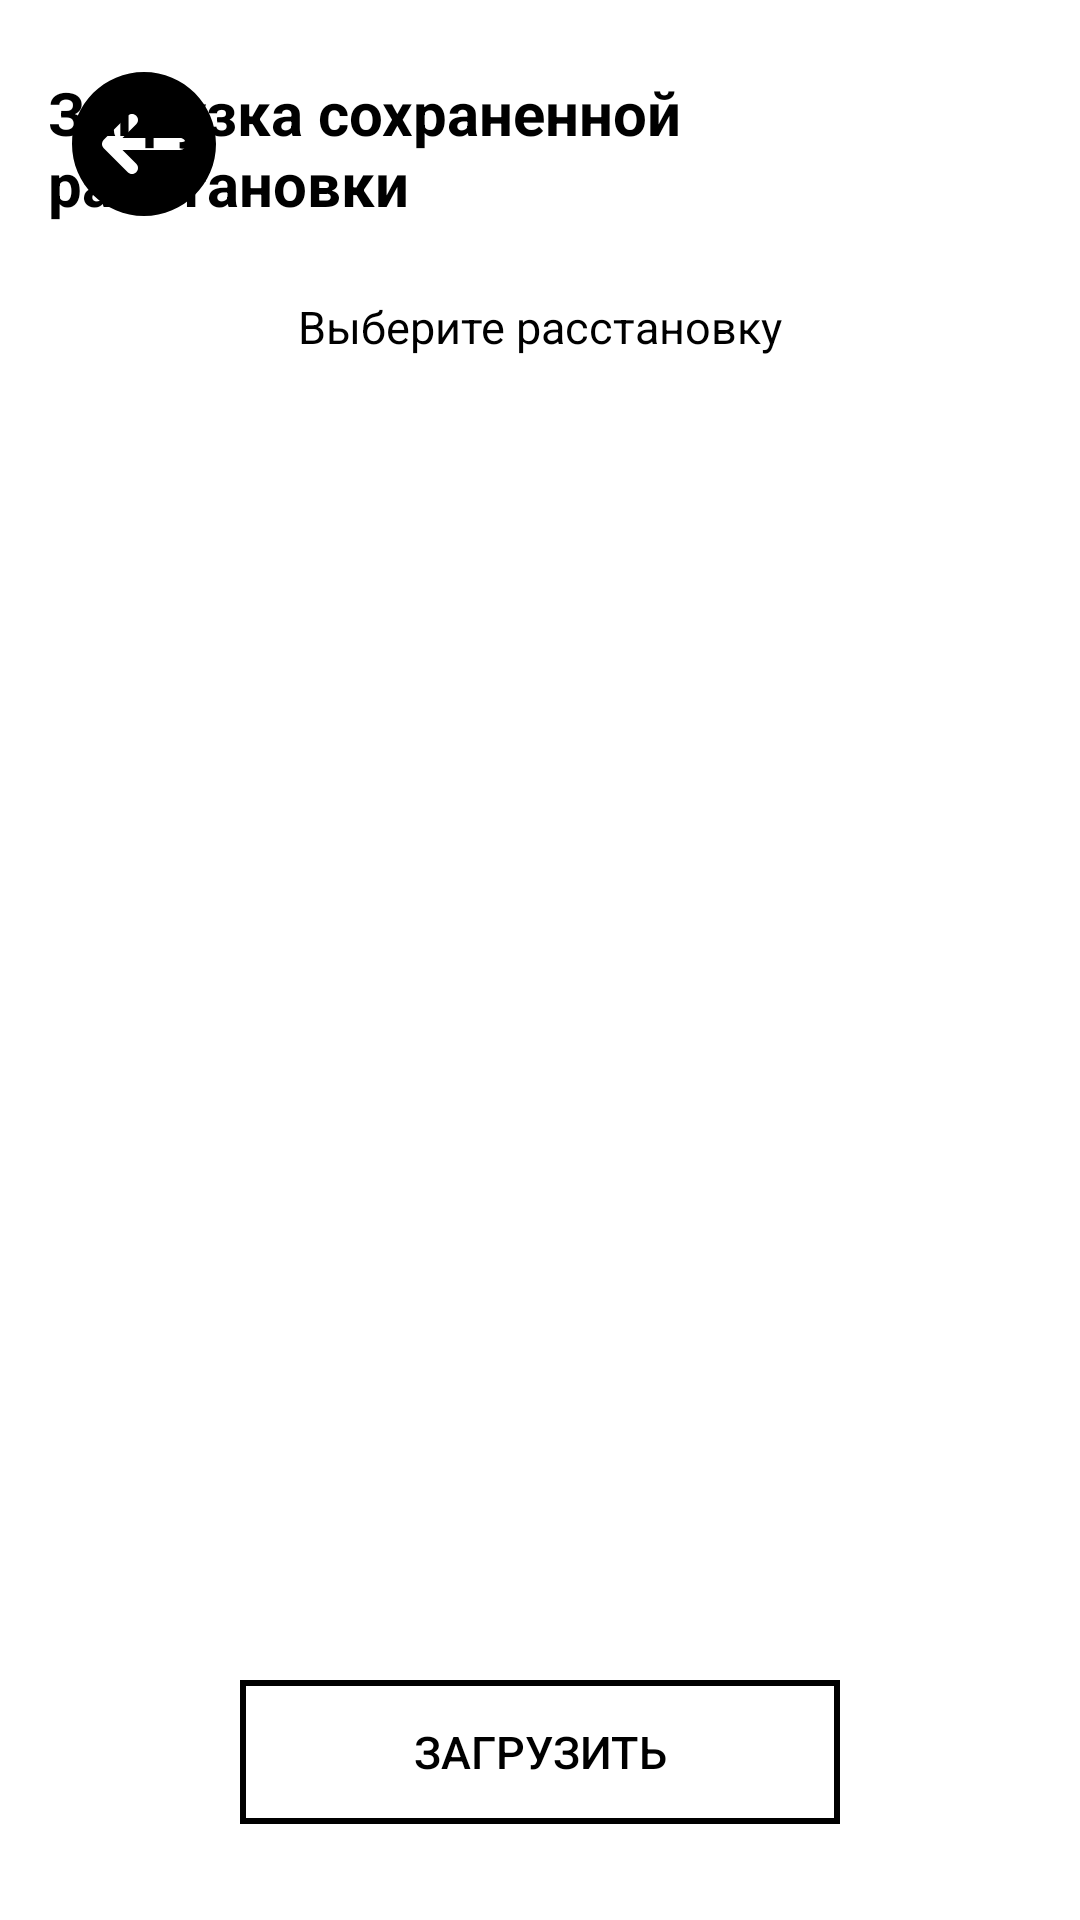

Screen size 1080px x 1920px. Icon name, then its box in pixels as detection(x1, y1, x2, y2):
Назад: detection(72, 72, 216, 216)
